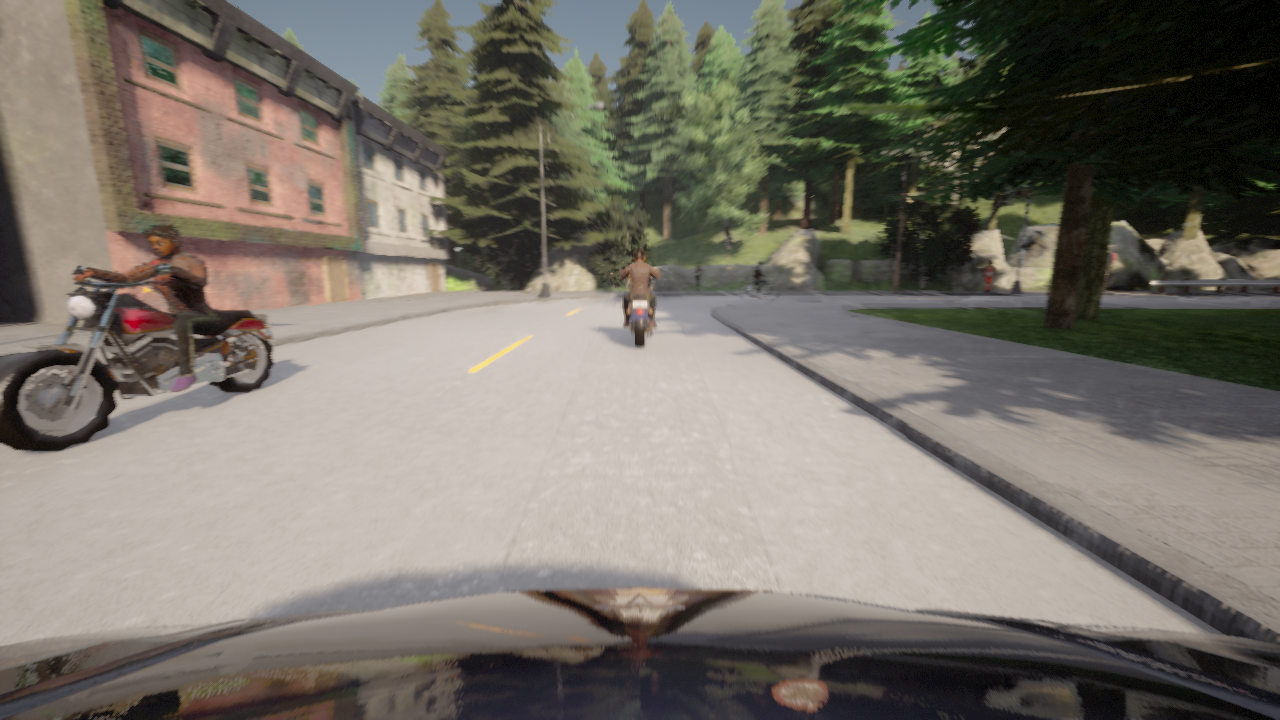cyclist: (0, 588, 1279, 719), (0, 263, 275, 451), (620, 270, 660, 347), (741, 278, 779, 301)
pedestrian: (983, 261, 995, 291), (694, 261, 703, 290)
